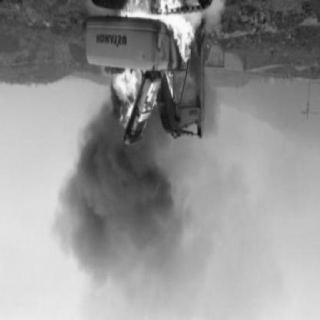Fire: (119, 1, 193, 64), (108, 70, 160, 142), (165, 67, 177, 103)
Smoke: (60, 146, 178, 290)
